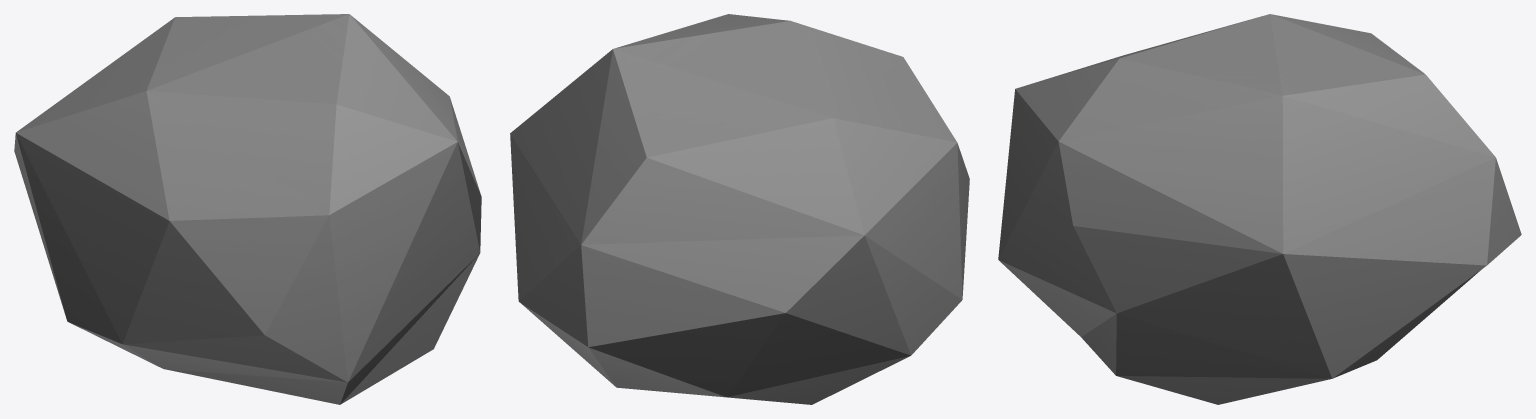
Rendered from Rock_Small_6.fbx.
3 renders of one model, left to right at view 1: azimuth 30°, elevation 25°; view 2: azimuth 150°, elevation 25°; view 3: azimuth 270°, elevation 25°, orthographic. The views are drawn at different scales.
Parts seen in each view (by area): view 1: Rock_Small_6; view 2: Rock_Small_6; view 3: Rock_Small_6.
Boxes of the visible parts, box(x1,y1,x2,y2) form: Rock_Small_6: box(14, 14, 481, 404); Rock_Small_6: box(510, 14, 969, 404); Rock_Small_6: box(998, 14, 1521, 404).
Bounding box in the file's own units: 103 × 78.32 × 118.
